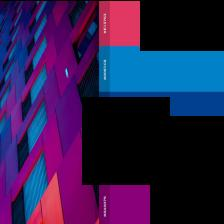purple: (100, 137, 224, 181), (100, 182, 224, 224), (56, 75, 85, 156)
